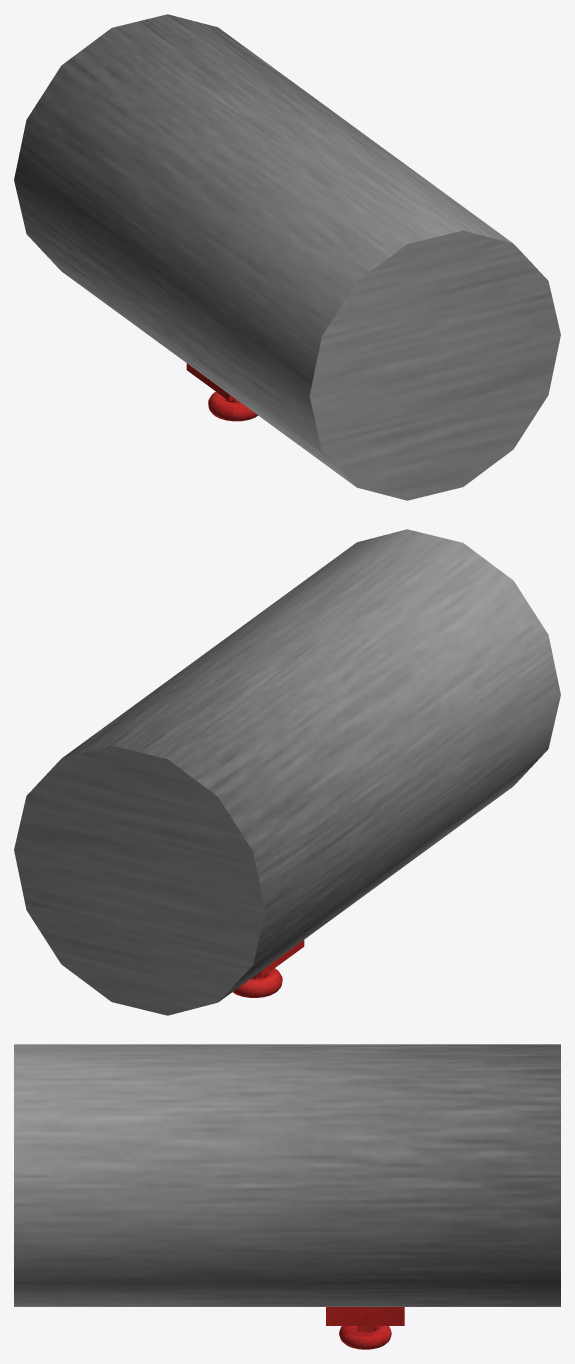
The model's file is pipe-wheel.fbx.
3 views of the same model, one above another, from view 1: azimuth 30°, elevation 25°; view 2: azimuth 150°, elevation 25°; view 3: azimuth 270°, elevation 25° (orthographic). The views are drawn at different scales.
Parts seen in each view (by area): view 1: pTorus2; view 2: pTorus2; view 3: pTorus2.
Part boxes in pixels (x1=…): pTorus2: x1=14, y1=14, x2=560, y2=500; pTorus2: x1=14, y1=529, x2=560, y2=1015; pTorus2: x1=14, y1=1044, x2=560, y2=1349.
Bounding box in the file's own units: 96.72 × 115 × 197.
